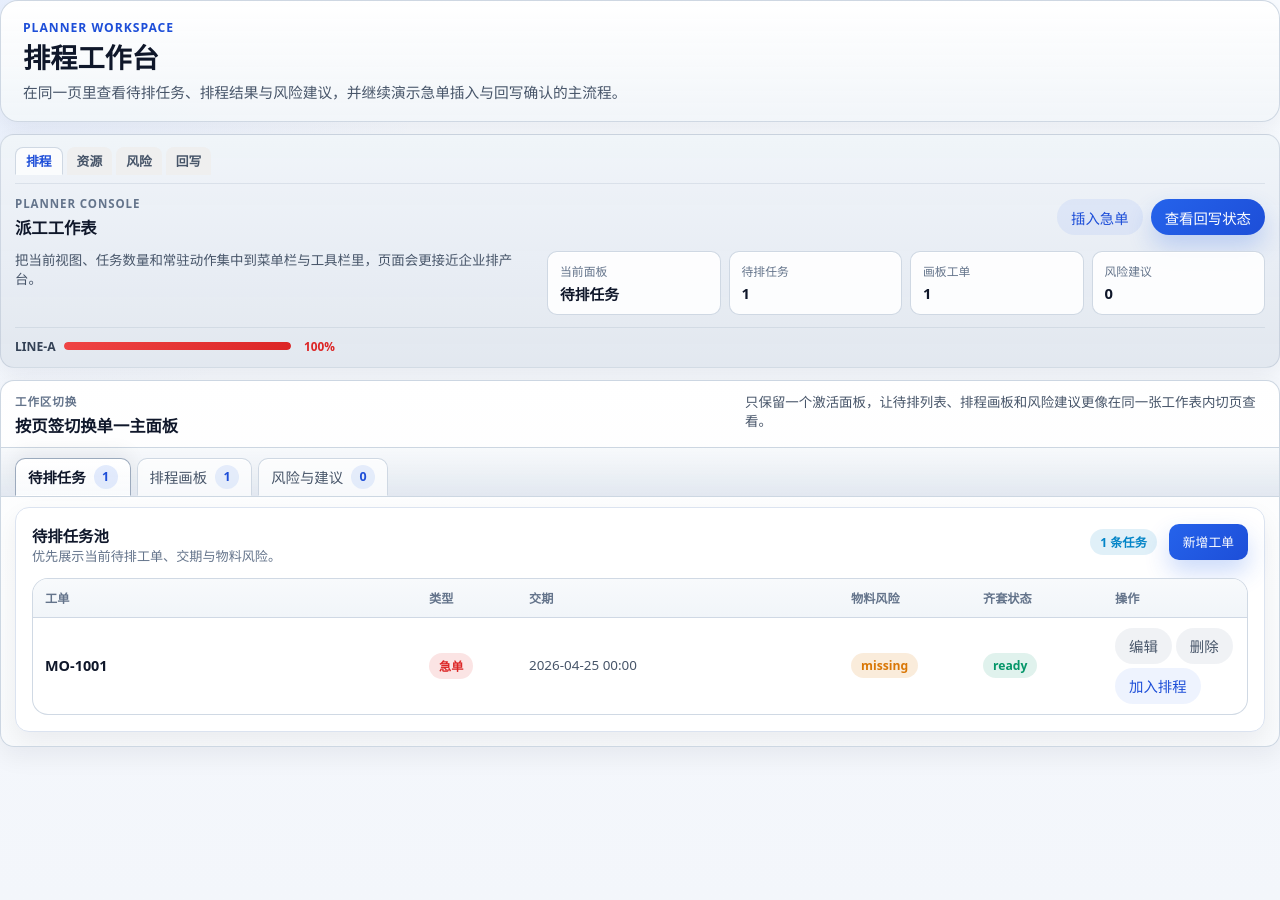
it: PlannerWorkbenchView integration › 同页重新打开 submitted 回写弹窗刷新失败时保留队列语义并显示错误
The image size is (1280, 900).
Step 1. Click the button with test id "open-publish-dialog" → [1208, 217], box [1151, 199, 1265, 235]
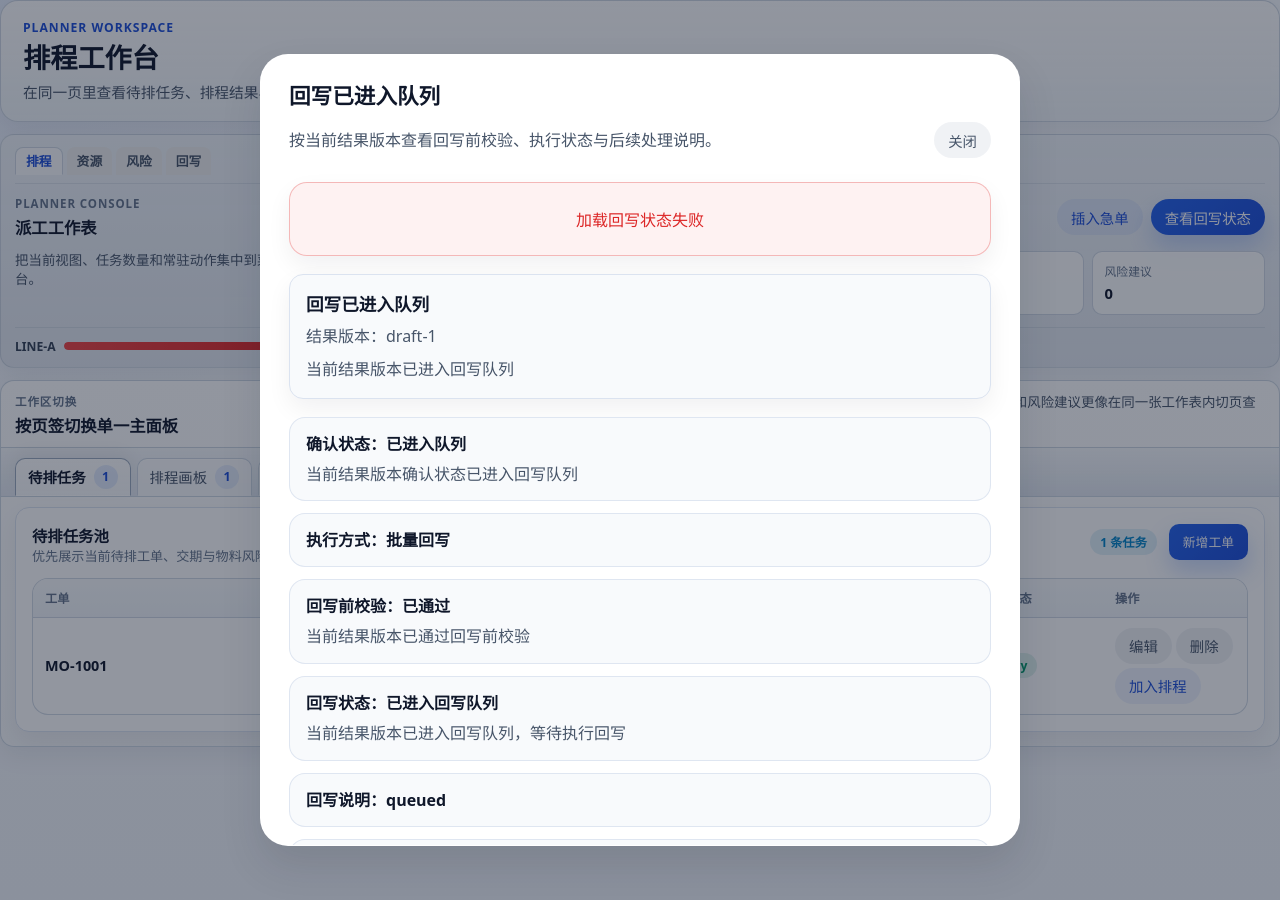
Result: the dialog named "回写已进入队列" shows "加载回写状态失败" at [576, 209, 704, 231]
Result: the dialog named "回写已进入队列" shows "回写已进入队列" at [289, 81, 440, 110]
Result: the dialog named "回写已进入队列" shows "当前结果版本已进入回写队列" at [306, 358, 514, 380]
